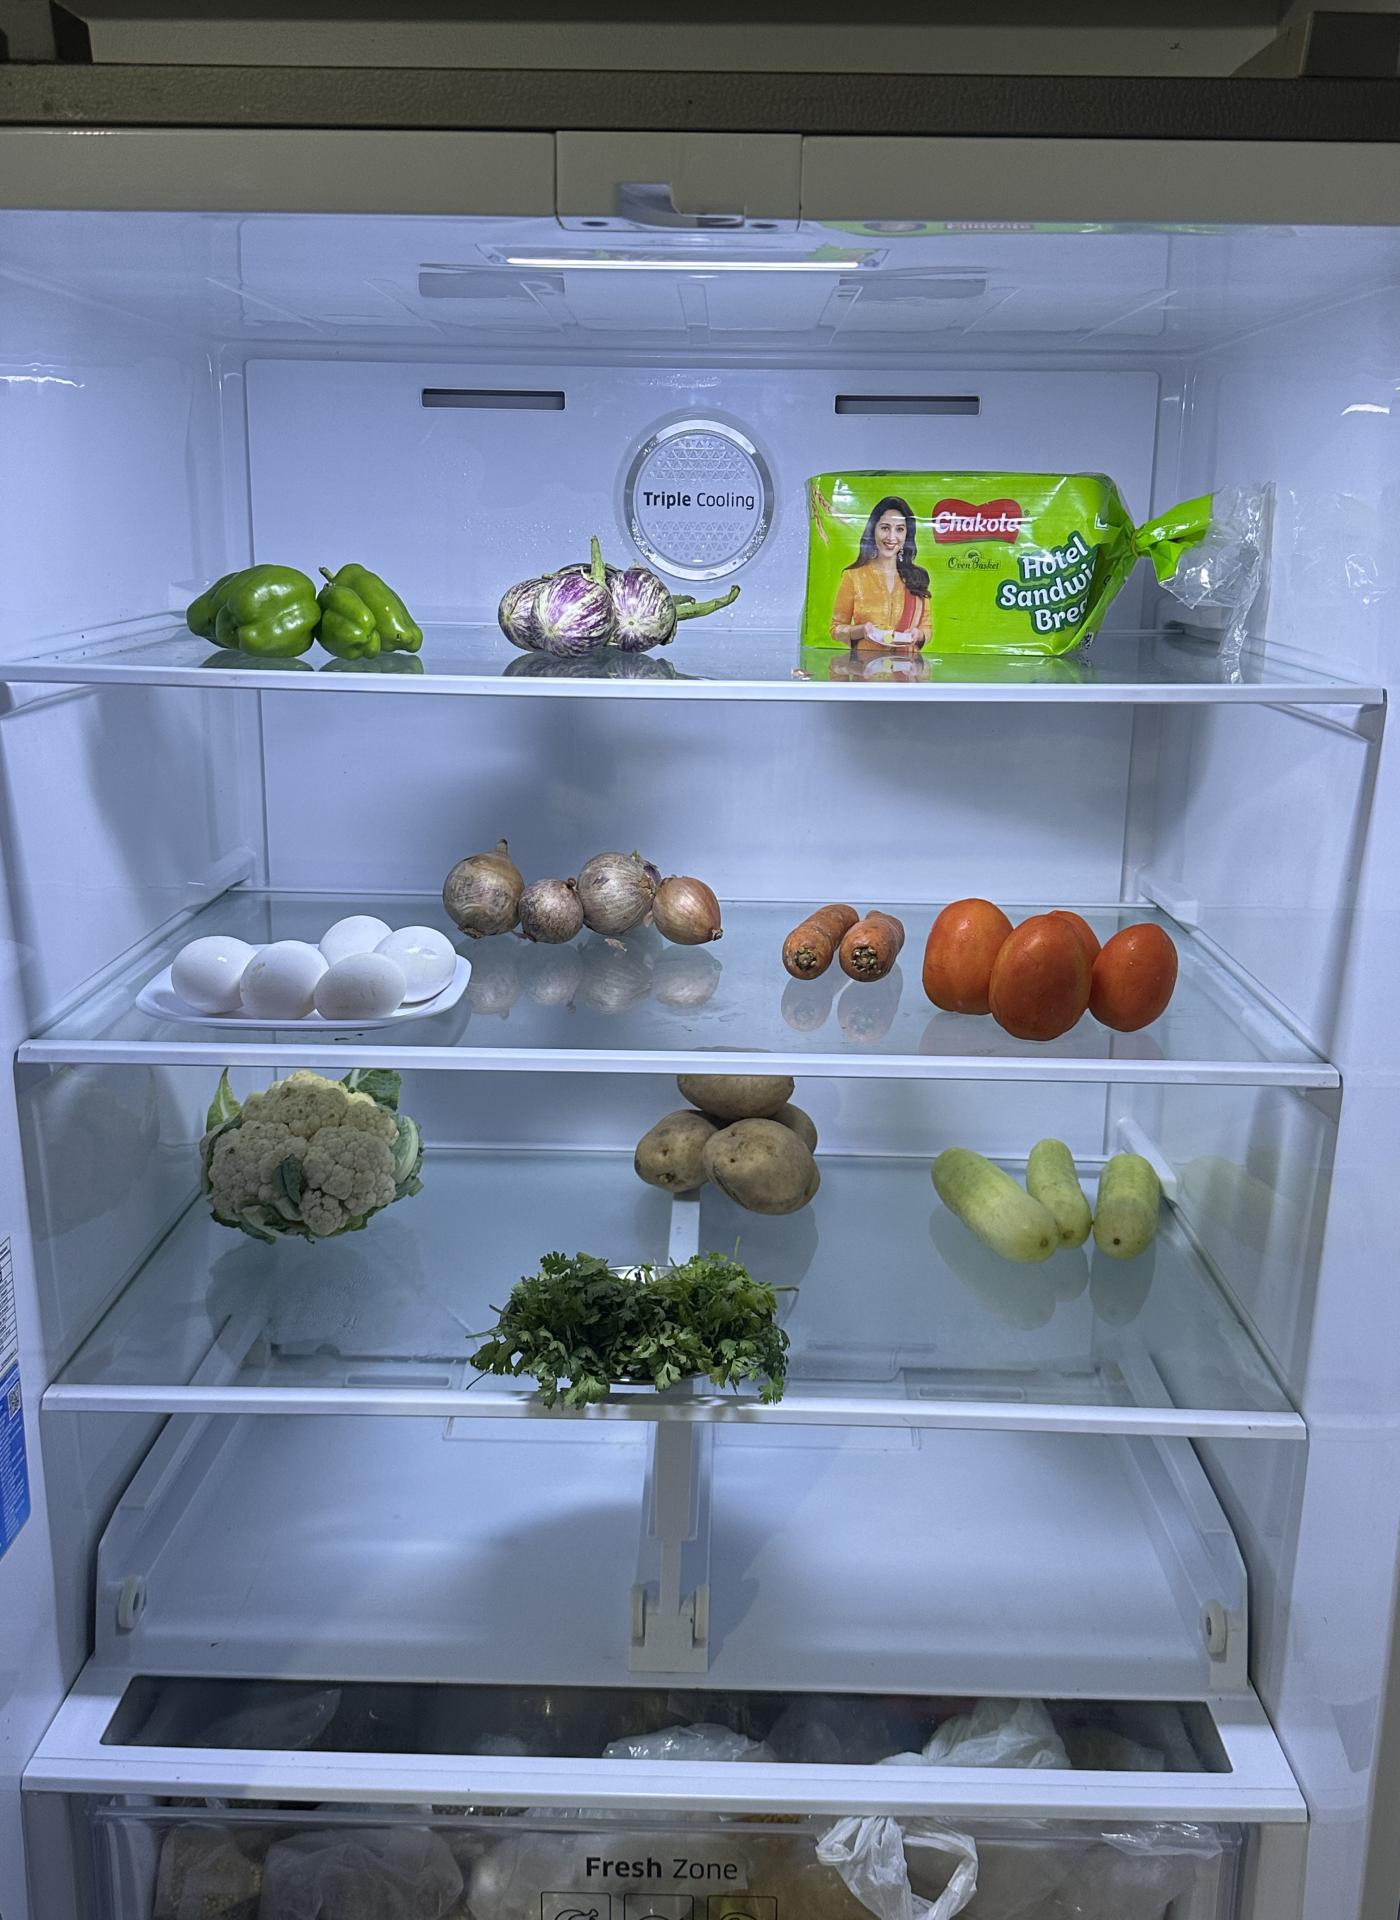bread: (807, 468, 1151, 678)
brinjal: (496, 555, 698, 668)
capsicum: (185, 534, 431, 650)
carrots: (781, 887, 909, 990)
cauliflower: (197, 1072, 428, 1243)
coriander: (480, 1245, 792, 1395)
cucumber: (926, 1122, 1164, 1264)
egg: (165, 909, 455, 1029)
onion: (438, 832, 723, 947)
potato: (637, 1061, 829, 1203)
tomato: (923, 894, 1188, 1046)
